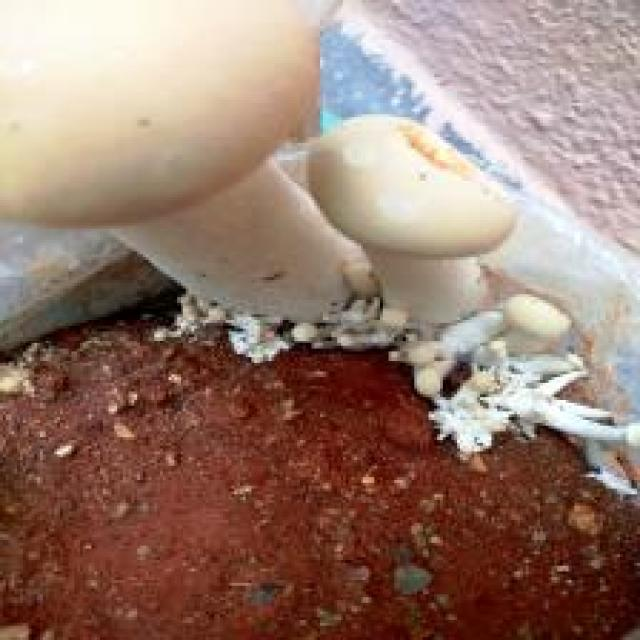field-mushroom: (0, 0, 380, 329)
